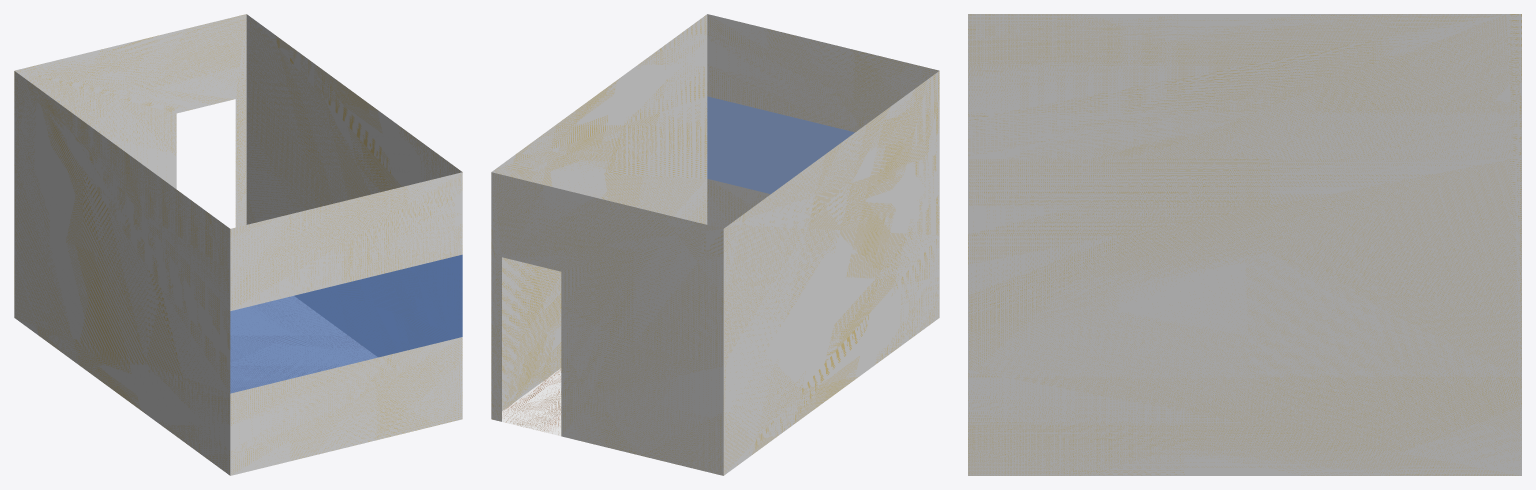
The model's file is DES010.obj.
3 renders of one model, left to right at view 1: azimuth 30°, elevation 25°; view 2: azimuth 150°, elevation 25°; view 3: azimuth 270°, elevation 25°, orthographic. The views are drawn at different scales.
Parts seen in each view (by area): view 1: Mesh1 DES010 Model; view 2: Mesh1 DES010 Model; view 3: Mesh1 DES010 Model.
Part boxes in pixels (x1,y1,x2,y2): Mesh1 DES010 Model: (14,14,462,475); Mesh1 DES010 Model: (491,14,939,475); Mesh1 DES010 Model: (968,14,1521,475).
Size of the model in its own units: 2.97 by 3.02 by 4.78.
Materials: 4 (1 with a texture image).
